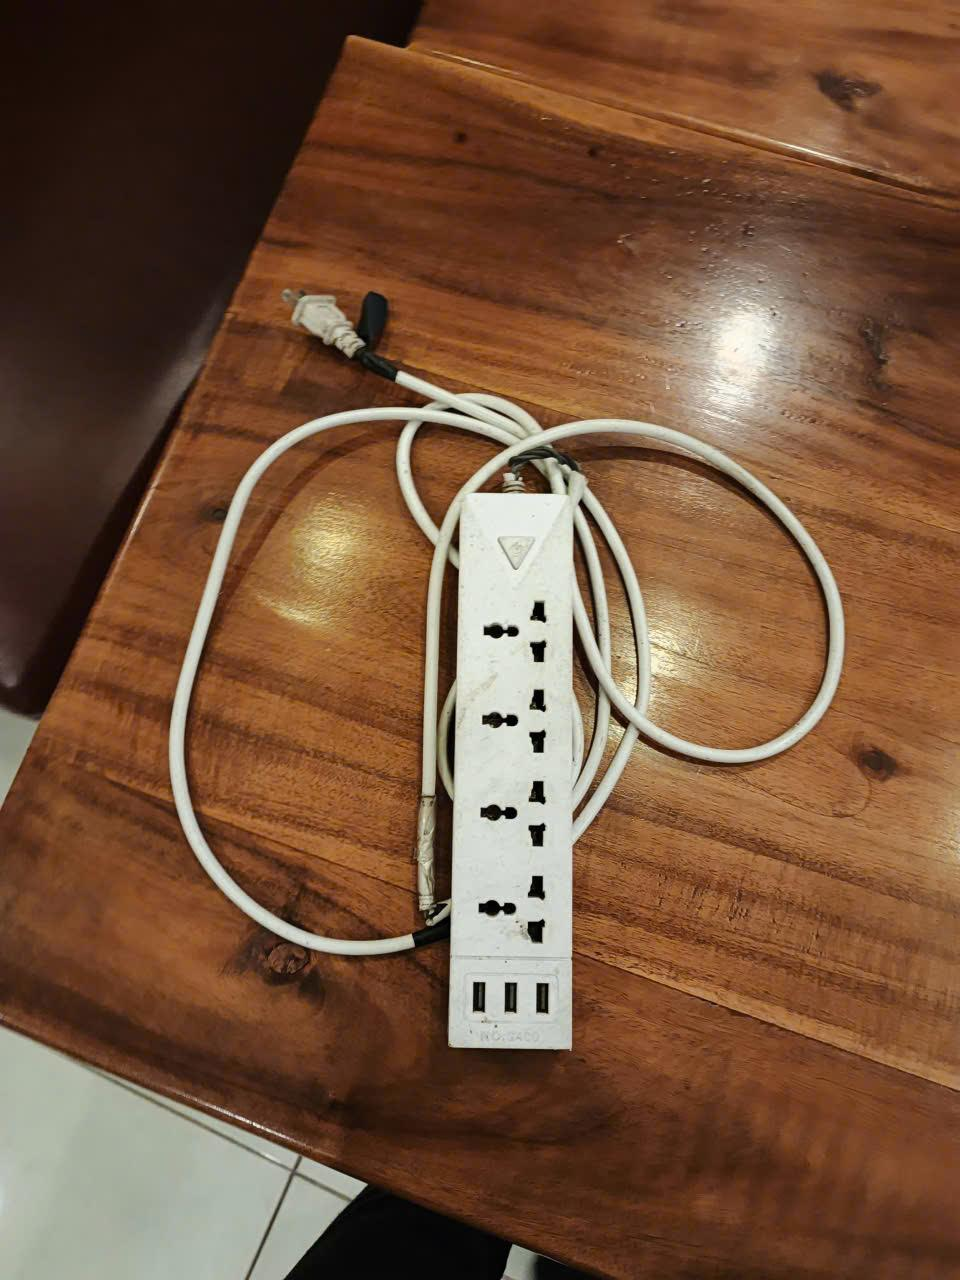Con lai: (167, 288, 844, 1074)
